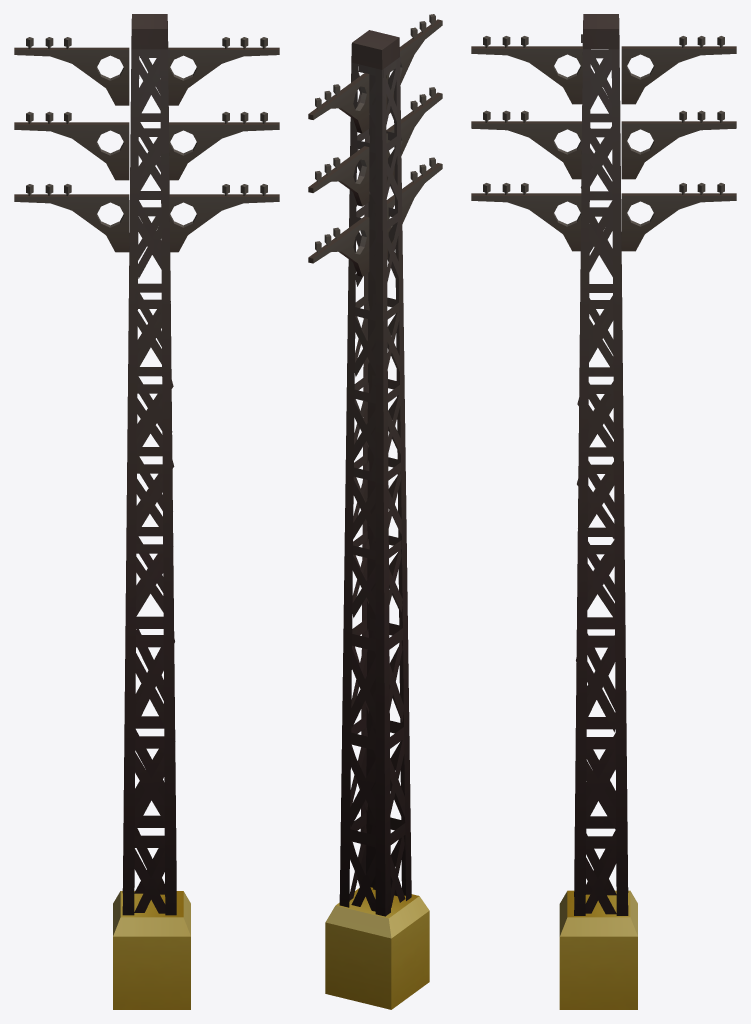
File: SM_CityElectricPole_01.fbx
3 renders of one model, left to right at view 1: azimuth 90°, elevation 25°; view 2: azimuth 150°, elevation 25°; view 3: azimuth 270°, elevation 25°, orthographic. The views are drawn at different scales.
Visible parts, largest first — view 1: SM_CityElectricPole_01; view 2: SM_CityElectricPole_01; view 3: SM_CityElectricPole_01.
Part boxes in pixels (box(x1,y1,x2,y2)): SM_CityElectricPole_01: box(14, 14, 279, 1009); SM_CityElectricPole_01: box(308, 14, 442, 1009); SM_CityElectricPole_01: box(471, 14, 736, 1009).
Bounding box in the file's own units: 0.5867 × 8.04 × 1.99.
